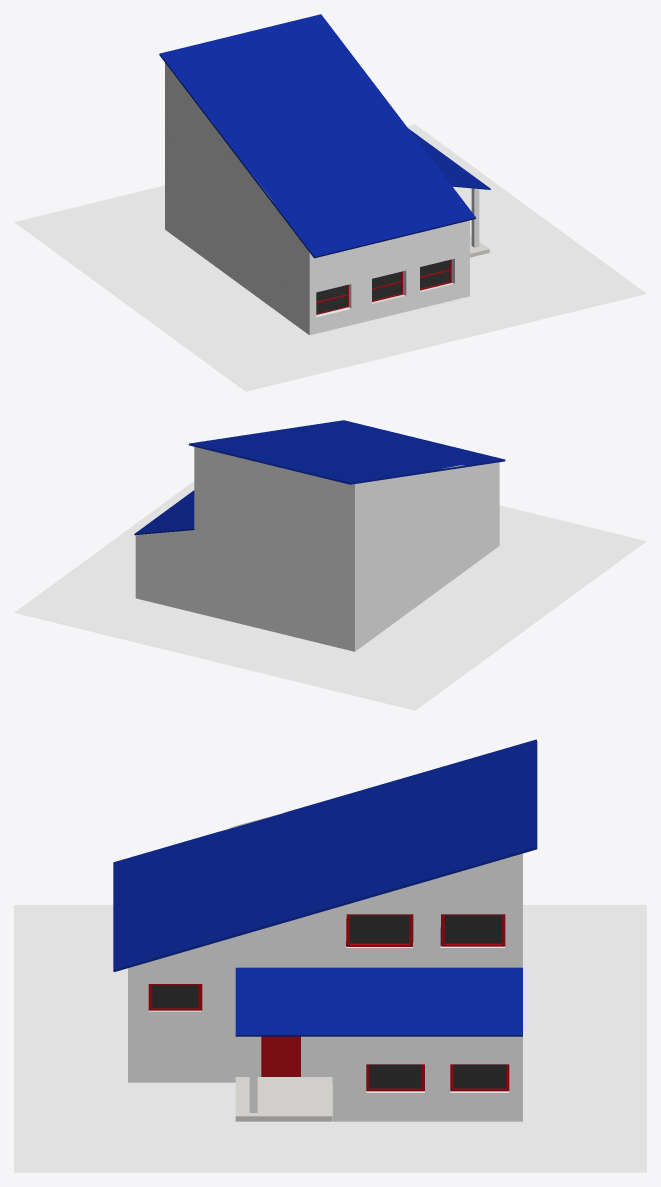
The model's file is house_3.glb.
The picture shows the model from 3 angles, top to bottom: view 1: azimuth 30°, elevation 25°; view 2: azimuth 150°, elevation 25°; view 3: azimuth 270°, elevation 25°; orthographic projection. The views are drawn at different scales.
Visible parts, largest first — view 1: Plane.005, Cube.013, Cube.011, Cube.012; view 2: Cube.011, Plane.005, Cube.013, Cube.012; view 3: Plane.005, Cube.011, Cube.013, Cube.012, Cube.014, Cube.016, Cube.017, Cube.022.
Part boxes in pixels (x1,y1,x2,y2): Plane.005: (14, 124, 646, 391); Cube.013: (159, 14, 475, 258); Cube.011: (165, 63, 469, 335); Cube.012: (408, 128, 490, 189); Cube.011: (135, 447, 499, 651); Plane.005: (14, 481, 646, 710); Cube.013: (188, 420, 505, 484); Cube.012: (134, 490, 194, 535); Plane.005: (14, 905, 646, 1172); Cube.011: (128, 812, 522, 1121); Cube.013: (113, 739, 537, 971); Cube.012: (235, 967, 522, 1036); Cube.014: (235, 1077, 332, 1121); Cube.016: (261, 1036, 300, 1076); Cube.017: (249, 1036, 257, 1112); Cube.022: (346, 914, 412, 946).
Bounding box in the file's own units: 2 × 0.8219 × 2.
1 material, 1 textured.
